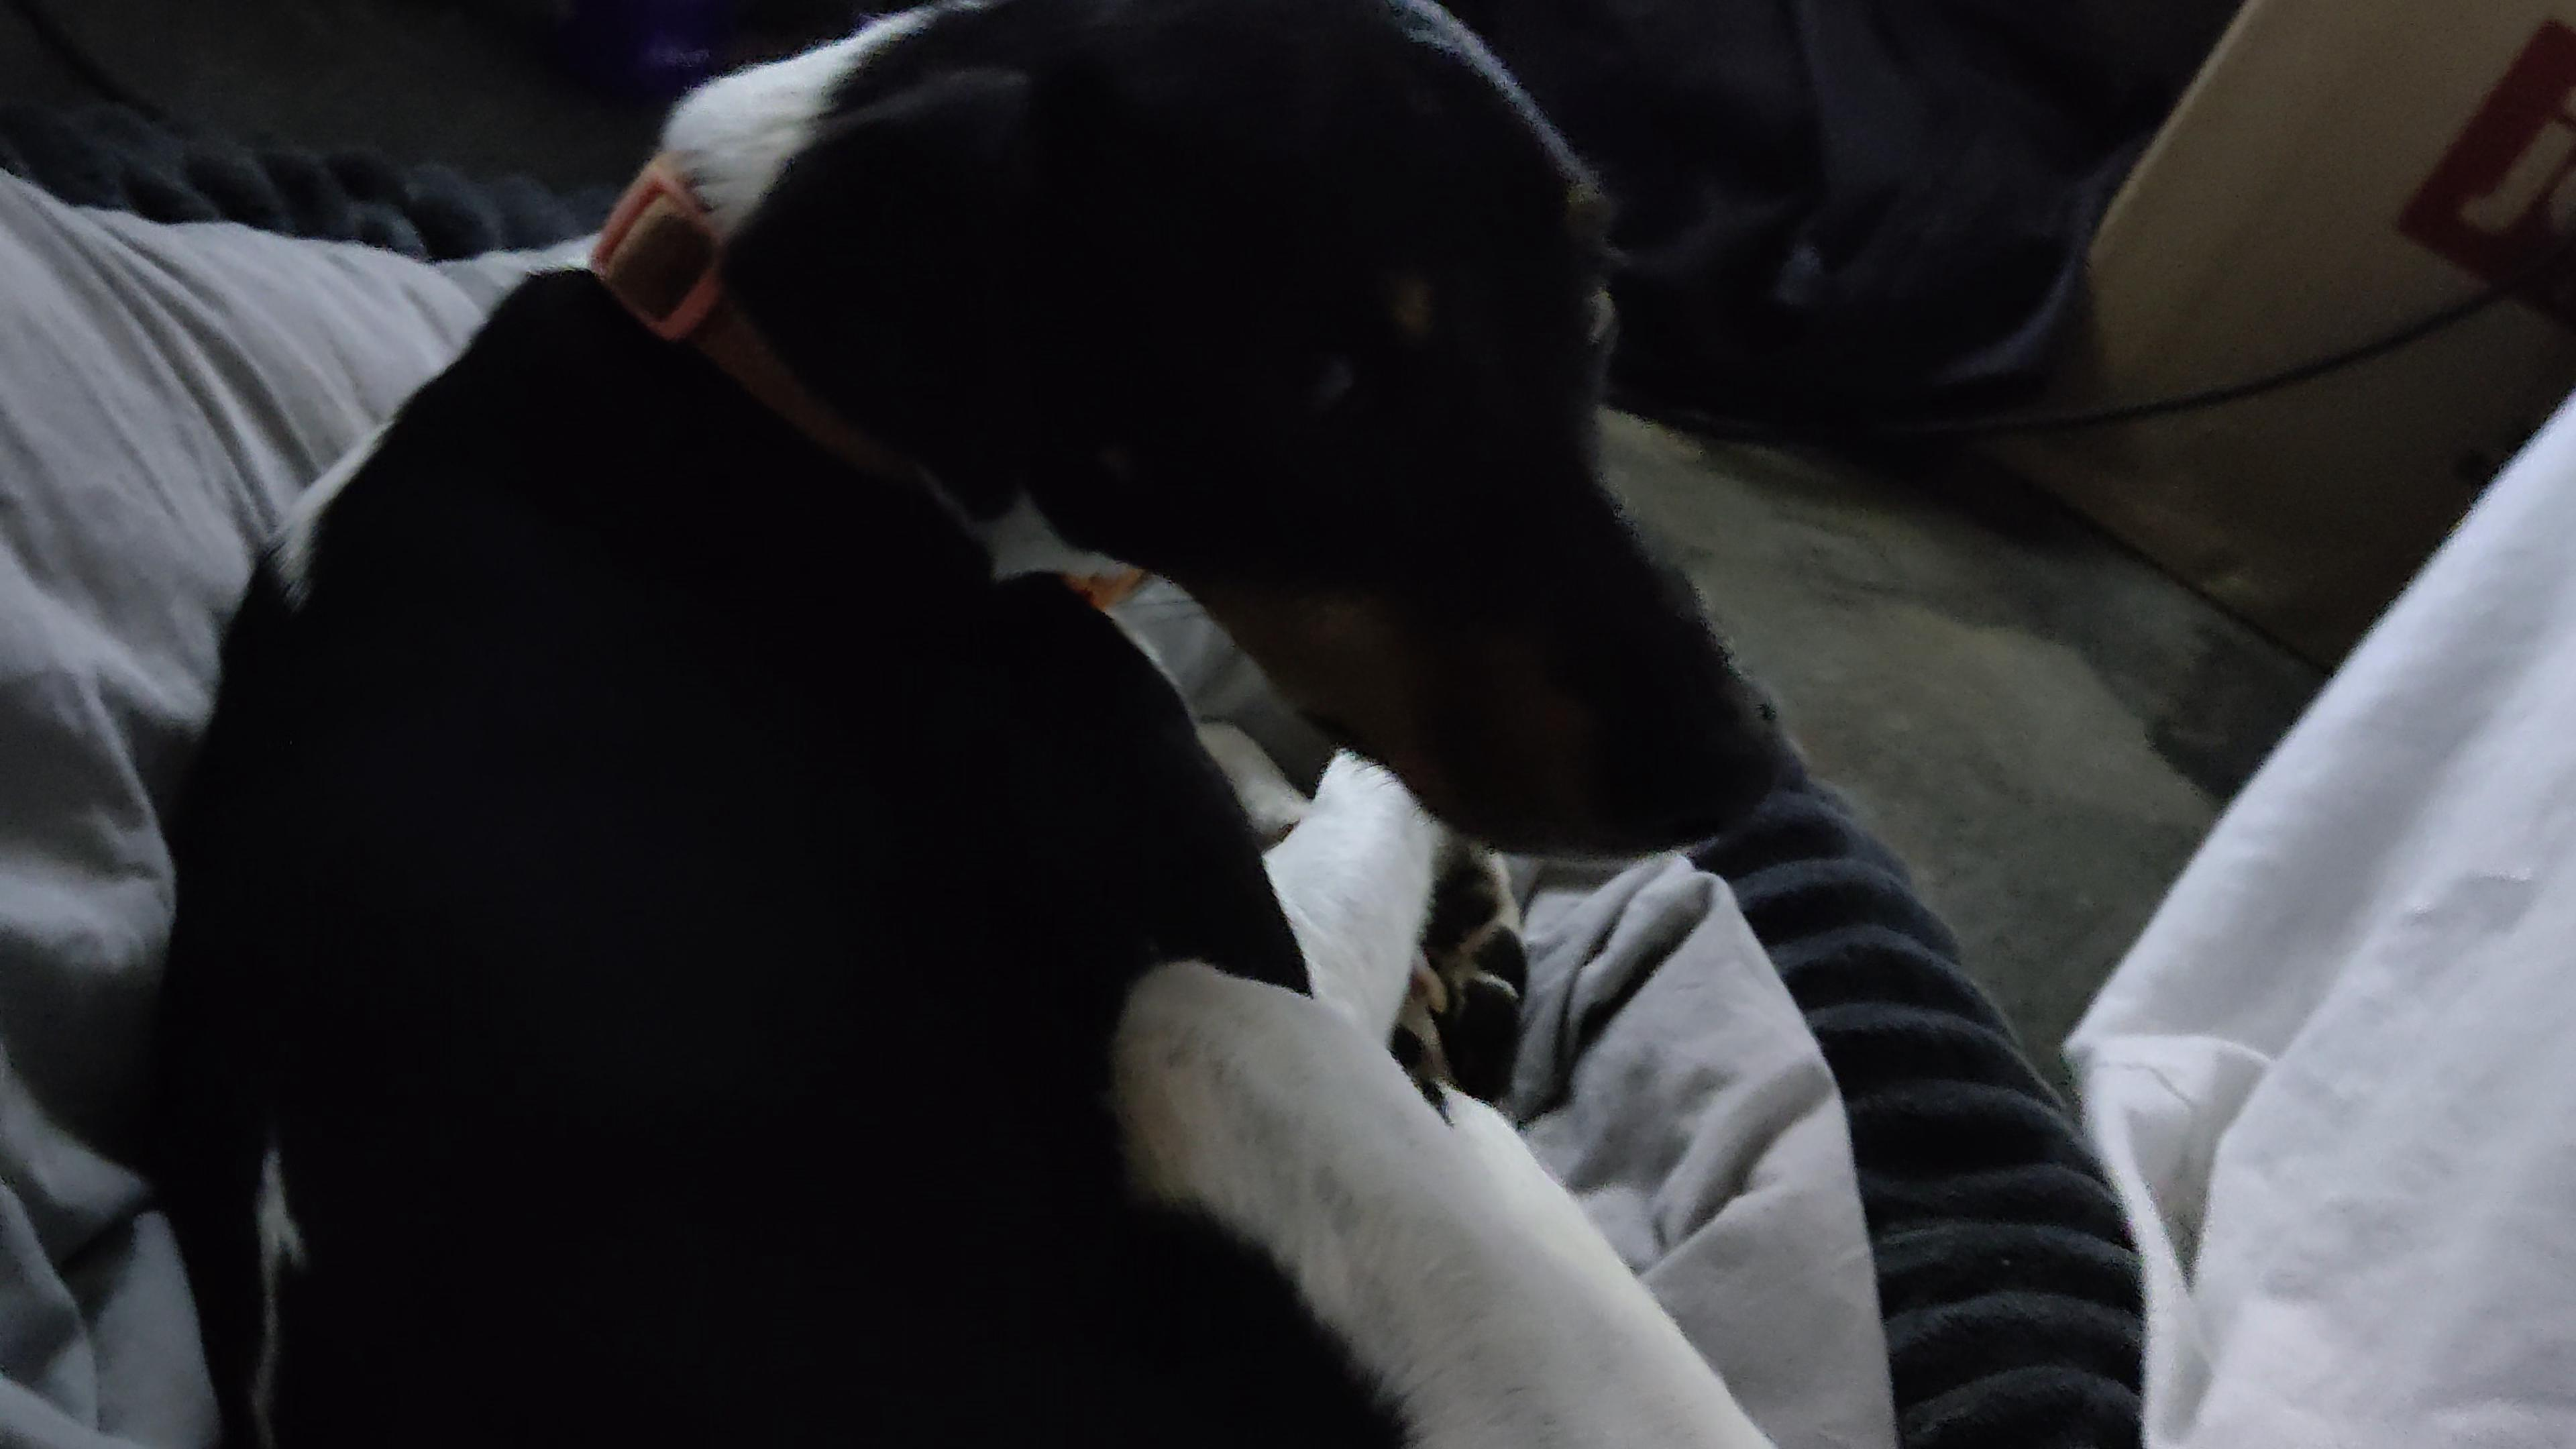Dog: (136, 0, 1815, 1449)
